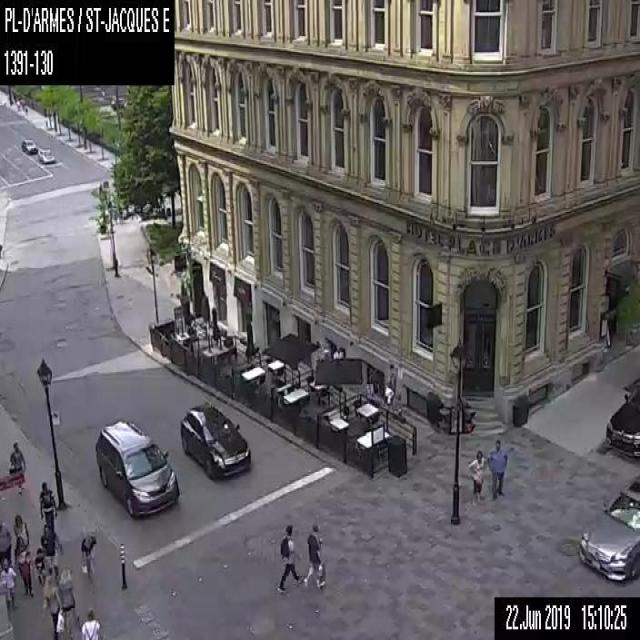pedestrian: (275, 524, 302, 592), (302, 522, 326, 591), (56, 564, 78, 638), (486, 438, 507, 500), (13, 532, 33, 596), (40, 523, 63, 578), (40, 574, 59, 638), (466, 449, 487, 503), (7, 439, 26, 496), (0, 556, 17, 608), (79, 530, 97, 578), (38, 481, 57, 526), (80, 604, 101, 638), (12, 512, 29, 548), (383, 362, 397, 405), (0, 518, 12, 567), (33, 546, 46, 584), (331, 341, 344, 359)
vehicle: (94, 418, 178, 518), (578, 472, 639, 584), (178, 401, 251, 479), (605, 376, 639, 459), (37, 147, 55, 163), (21, 138, 37, 154)
